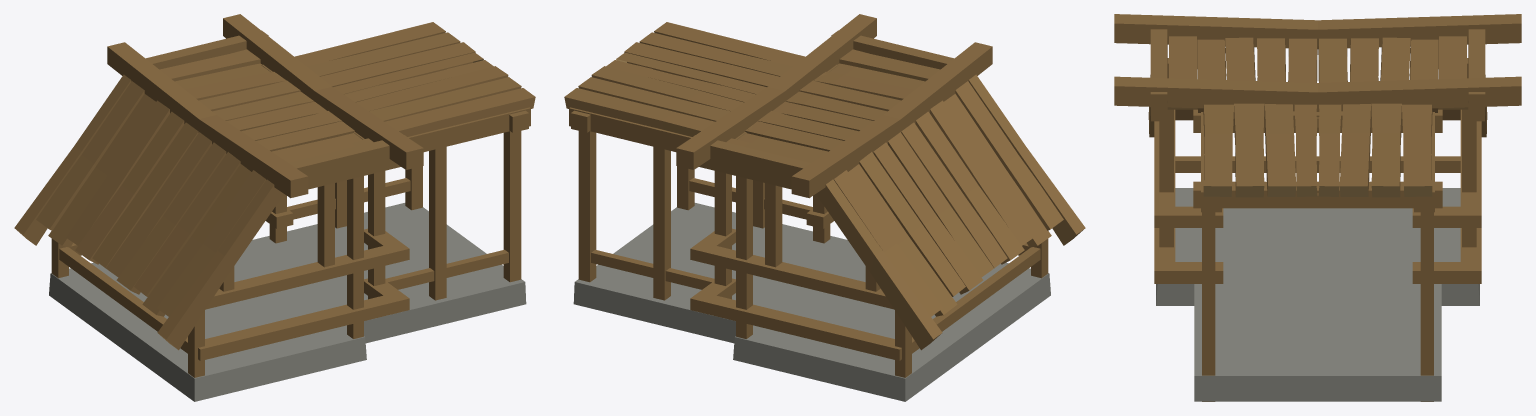
File: Shack-HuzLJcbUd2.glb
3 renders of one model, left to right at view 1: azimuth 30°, elevation 25°; view 2: azimuth 150°, elevation 25°; view 3: azimuth 270°, elevation 25°, orthographic. The views are drawn at different scales.
Parts seen in each view (by area): view 1: Shack-HuzLJcbUd2; view 2: Shack-HuzLJcbUd2; view 3: Shack-HuzLJcbUd2.
Boxes of the visible parts, left/top/right/bottom form: Shack-HuzLJcbUd2: left=14, top=14, right=535, bottom=401; Shack-HuzLJcbUd2: left=564, top=14, right=1085, bottom=401; Shack-HuzLJcbUd2: left=1114, top=14, right=1521, bottom=401.
Bounding box in the file's own units: 1.46 × 0.7685 × 1.17.
